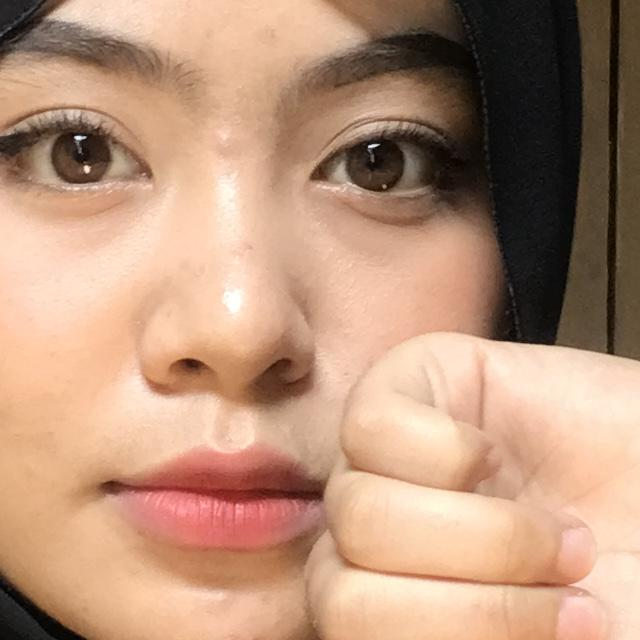sedih: (230, 196, 640, 640)
